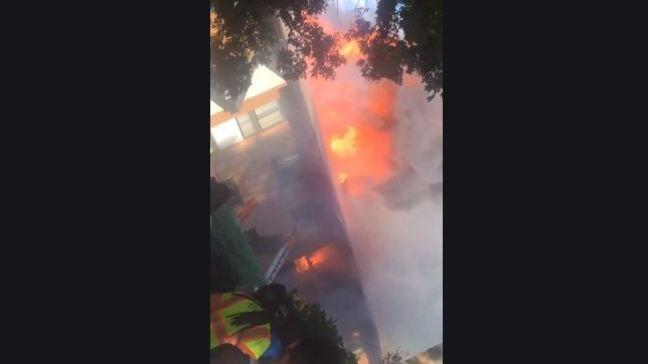fire: (308, 81, 395, 184)
smoke: (344, 199, 441, 325)
